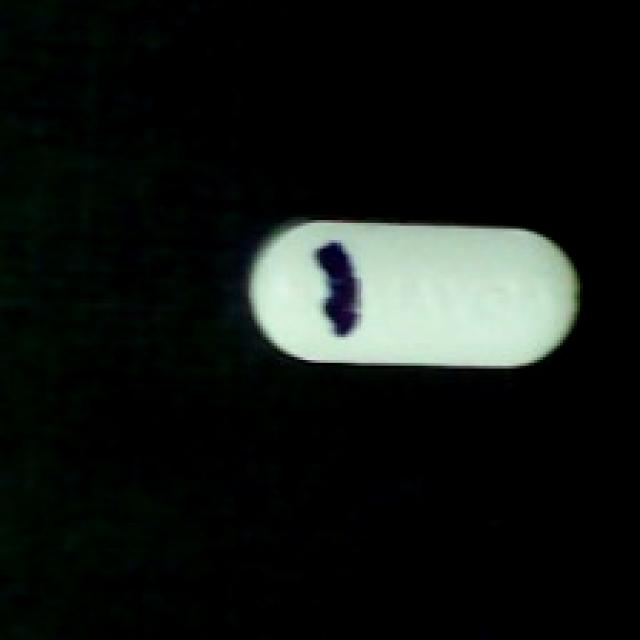defected: (243, 211, 583, 371)
